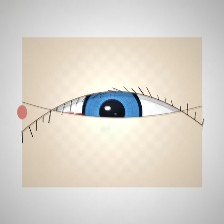hemorrhage_spot: (55, 96, 118, 146)
